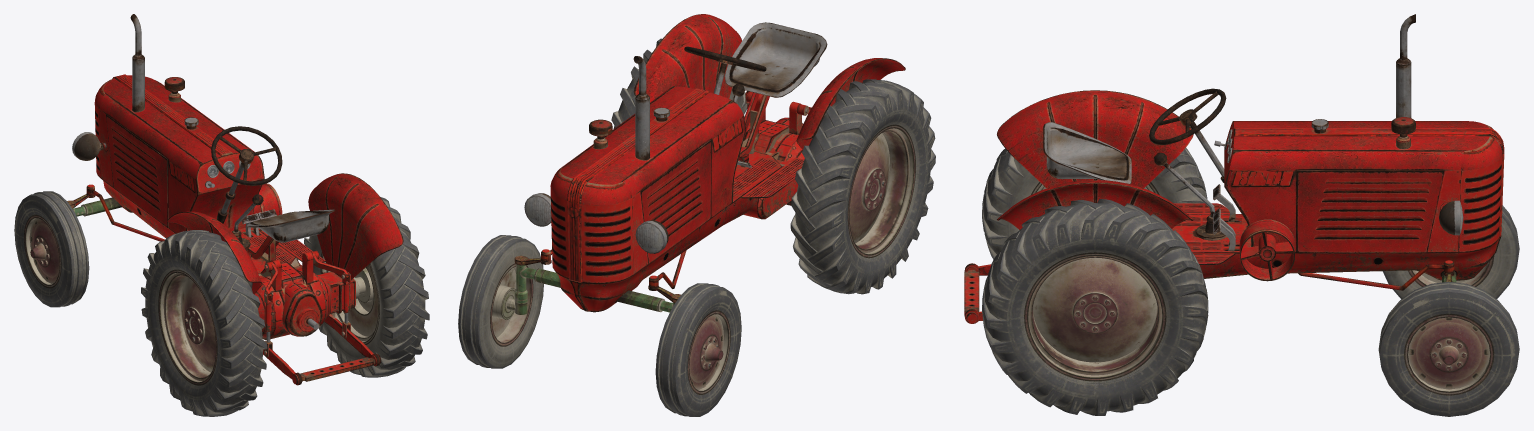
File: tractor.fbx
3 renders of one model, left to right at view 1: azimuth 30°, elevation 25°; view 2: azimuth 150°, elevation 25°; view 3: azimuth 270°, elevation 25°, orthographic. The views are drawn at different scales.
Visible parts, largest first — view 1: tractor_sgw3; view 2: tractor_sgw3; view 3: tractor_sgw3.
Boxes of the visible parts, x1,y1,x2,y2 form: tractor_sgw3: (14, 14, 429, 416); tractor_sgw3: (458, 14, 935, 416); tractor_sgw3: (964, 14, 1519, 416).
Size of the model in its own units: 2553 by 3276 by 4873.
